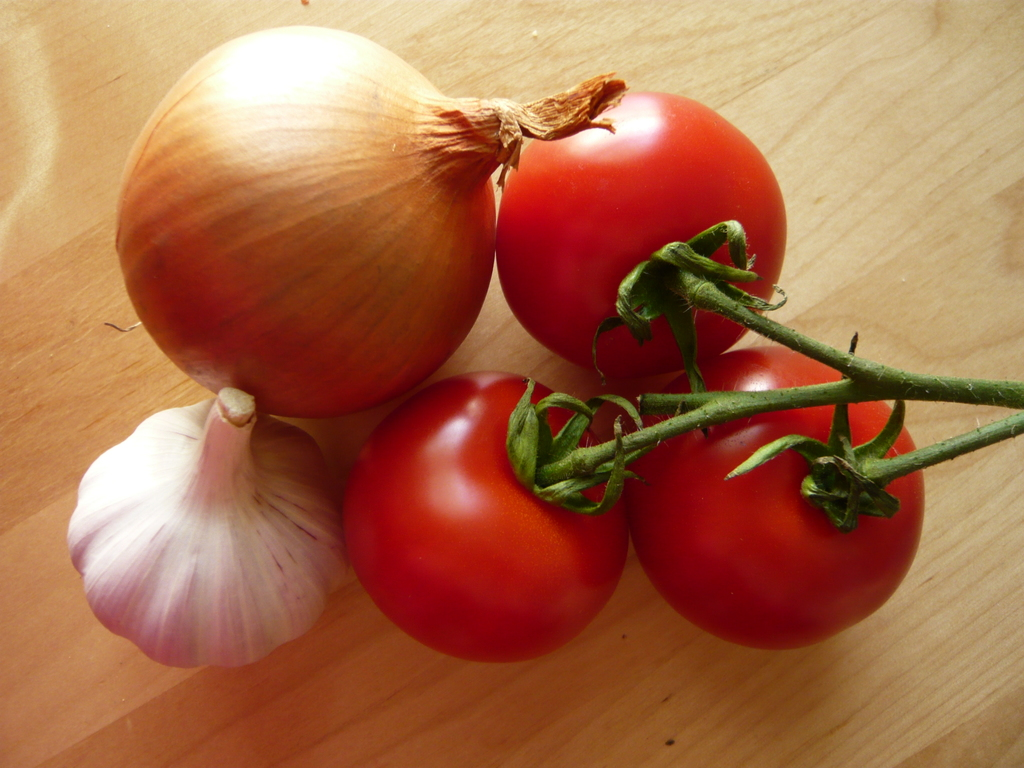Tomato: (334, 362, 638, 670), (629, 341, 919, 658), (498, 87, 796, 373)
